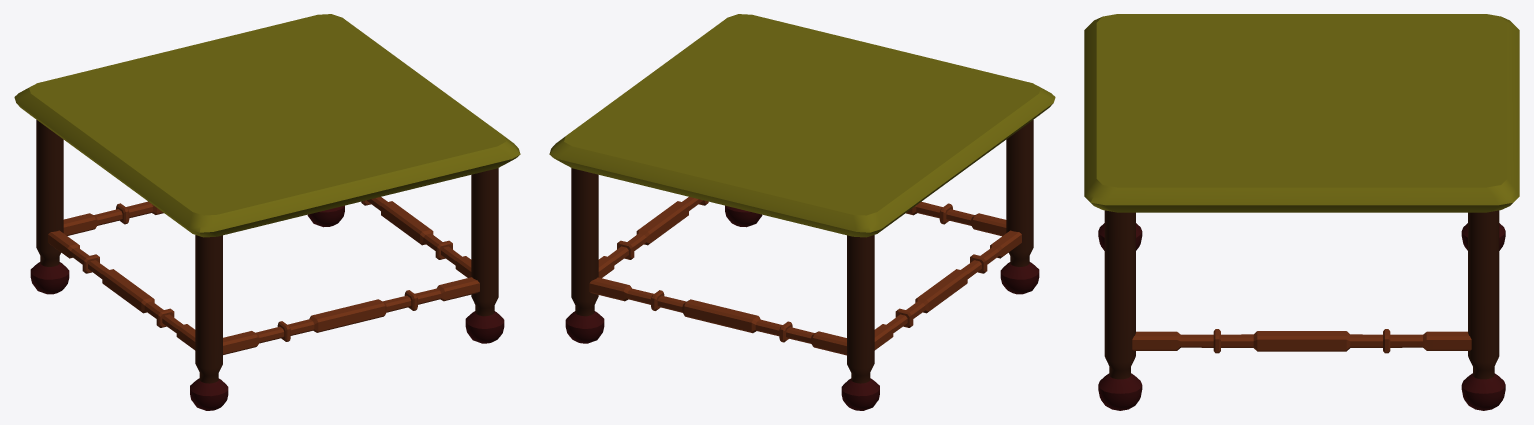
The model's file is MESH_Table.fbx.
3 views of the same model, side by side, from view 1: azimuth 30°, elevation 25°; view 2: azimuth 150°, elevation 25°; view 3: azimuth 270°, elevation 25° (orthographic). The views are drawn at different scales.
Parts seen in each view (by area): view 1: MESH_Table; view 2: MESH_Table; view 3: MESH_Table.
Boxes of the visible parts, left/top/right/bottom form: MESH_Table: left=14, top=14, right=520, bottom=410; MESH_Table: left=549, top=14, right=1055, bottom=410; MESH_Table: left=1084, top=14, right=1519, bottom=410.
Bounding box in the file's own units: 1.05 × 0.6171 × 1.05.
